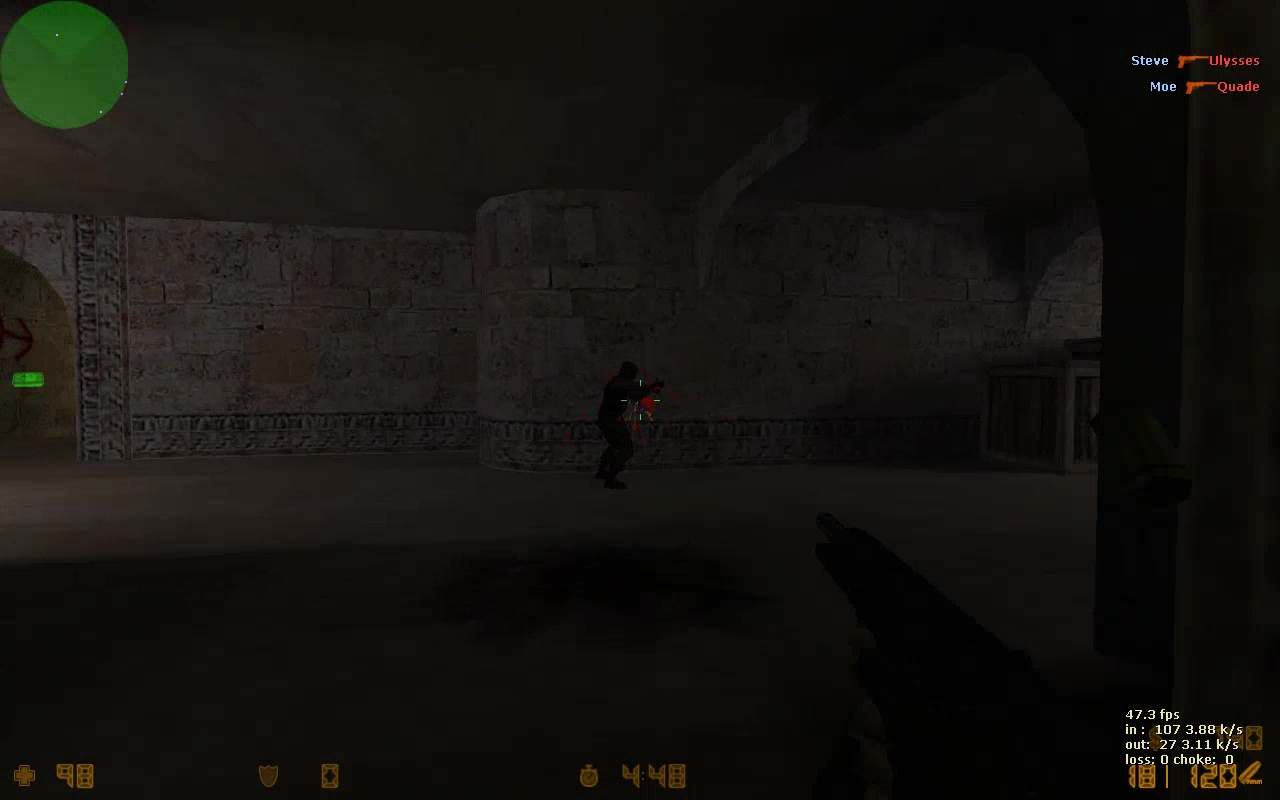terr1: (592, 359, 663, 487)
